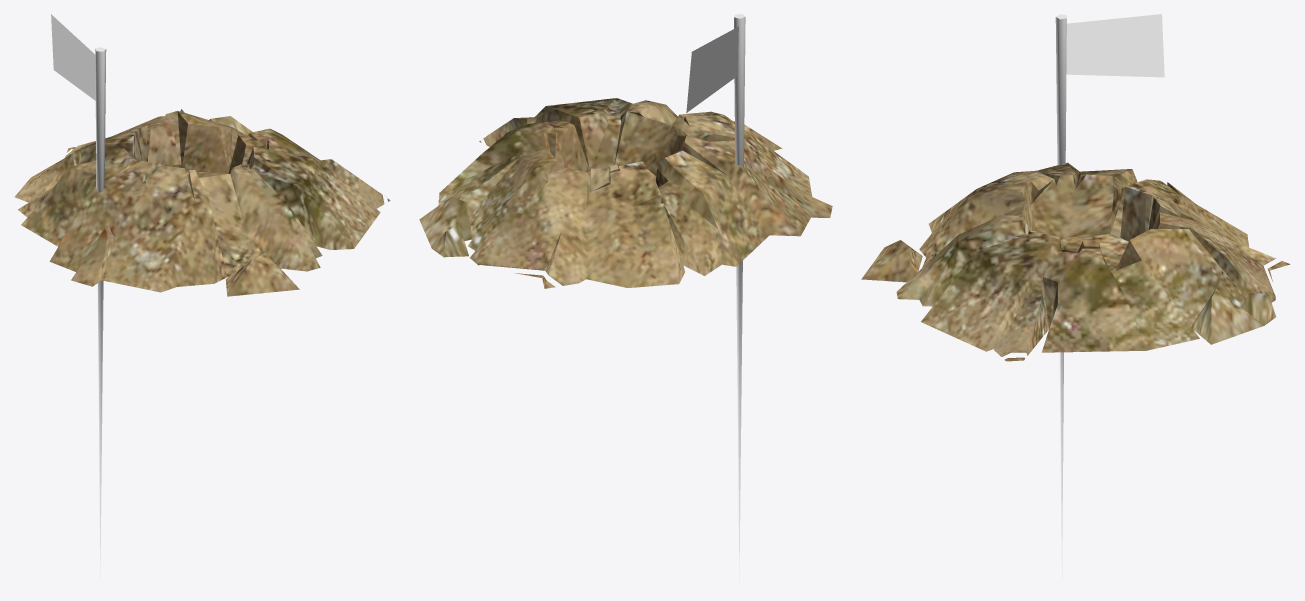
The model's file is dungeonhole.obj.
3 renders of one model, left to right at view 1: azimuth 30°, elevation 25°; view 2: azimuth 150°, elevation 25°; view 3: azimuth 270°, elevation 25°, orthographic. The views are drawn at different scales.
Visible parts, largest first — view 1: Shape_0, Shape_1; view 2: Shape_0, Shape_1; view 3: Shape_0, Shape_1.
Part boxes in pixels (x1,y1,x2,y2): Shape_0: (14,109,390,296); Shape_1: (51,14,106,578); Shape_0: (419,98,832,288); Shape_1: (686,14,745,581); Shape_0: (861,162,1290,361); Shape_1: (1055,14,1164,578).
Bounding box in the file's own units: 108 × 174 × 118.
2 materials, 1 textured.
